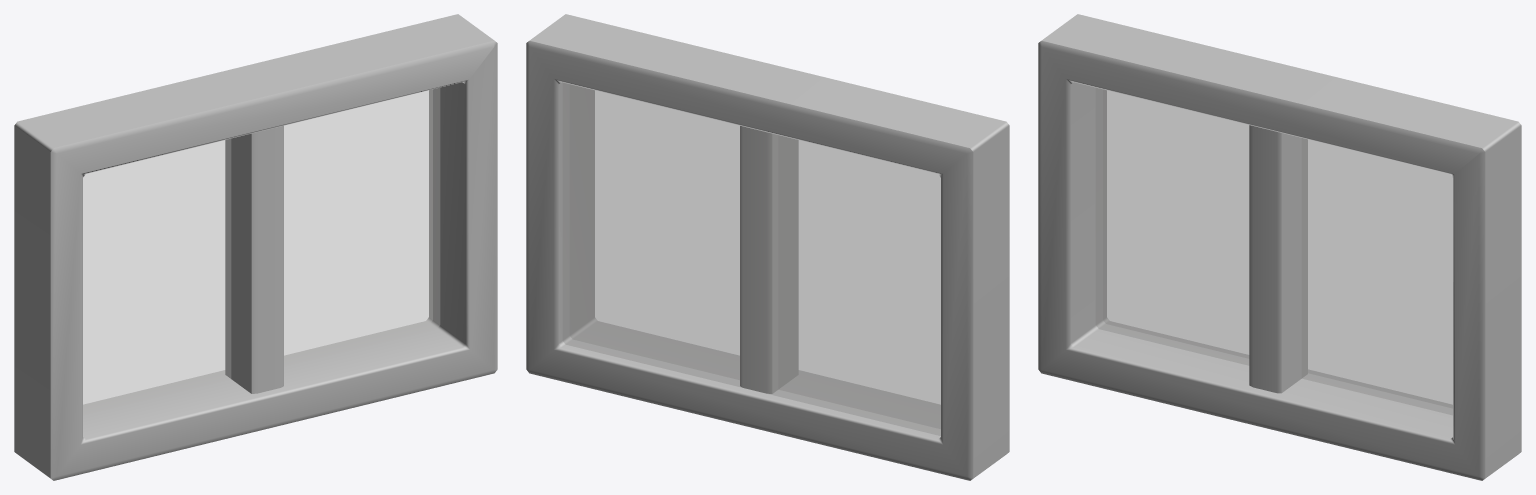
The model's file is Window_22.fbx.
3 renders of one model, left to right at view 1: azimuth 30°, elevation 25°; view 2: azimuth 150°, elevation 25°; view 3: azimuth 330°, elevation 25°, orthographic.
Visible parts, largest first — view 1: Window_22; view 2: Window_22; view 3: Window_22.
Boxes of the visible parts, bbox=[...] form: Window_22: bbox=[14, 14, 497, 480]; Window_22: bbox=[526, 14, 1009, 480]; Window_22: bbox=[1038, 14, 1521, 480].
Bounding box in the file's own units: 281 × 200 × 42.45.
